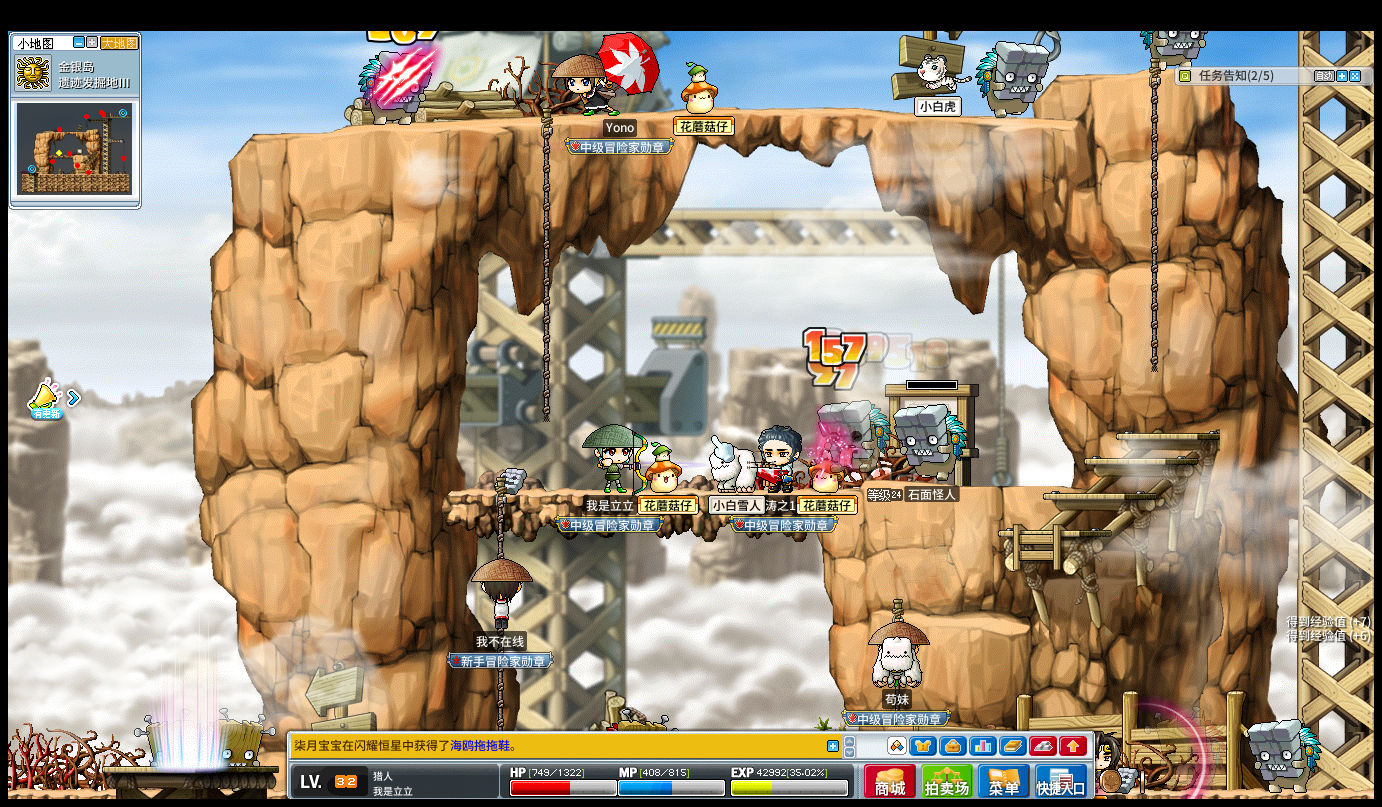floor: (229, 104, 1087, 139), (444, 487, 827, 499), (924, 613, 1029, 634), (1056, 68, 1169, 81), (1114, 429, 1221, 441), (958, 482, 1074, 493), (1077, 456, 1195, 464), (1041, 492, 1156, 500), (995, 528, 1107, 536)
monster: (895, 403, 968, 482), (975, 40, 1047, 119), (1245, 719, 1321, 792), (817, 400, 889, 477), (356, 46, 423, 126), (213, 712, 270, 768), (816, 400, 889, 440)
rope: (1146, 53, 1160, 377), (539, 106, 550, 426), (492, 481, 505, 560), (492, 669, 503, 727), (494, 668, 504, 723)
